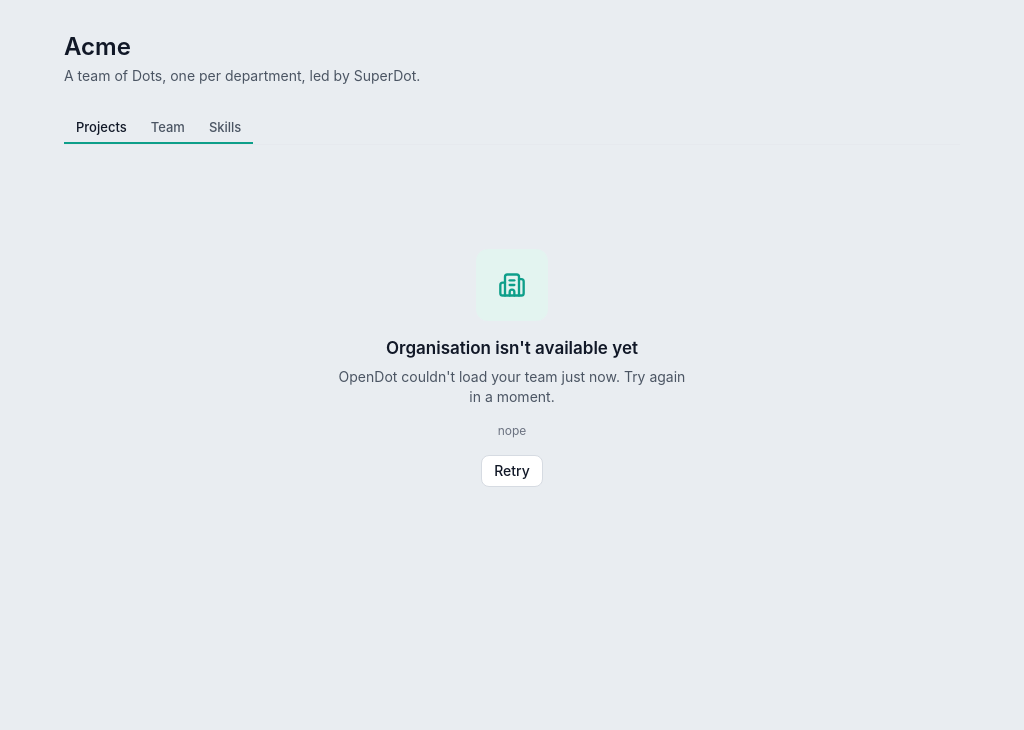
Test: board › loads a project that isn't in the store yet, and shows a retry when that fails
The width and height of the screenshot is (1024, 730).
Expected: the heading "Organisation isn't available yet" is shown, [386, 338, 638, 358]
Click the button "Retry".
click(512, 471)  # box [481, 455, 543, 487]
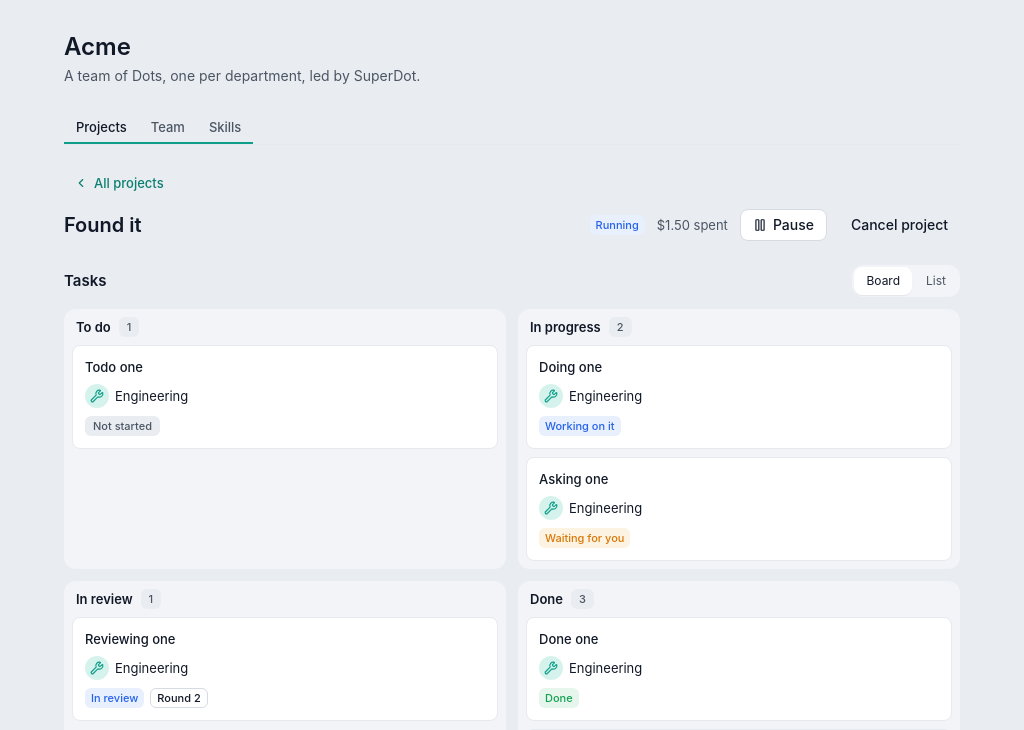
Expected: the heading "Found it" is shown, [64, 213, 142, 237]
